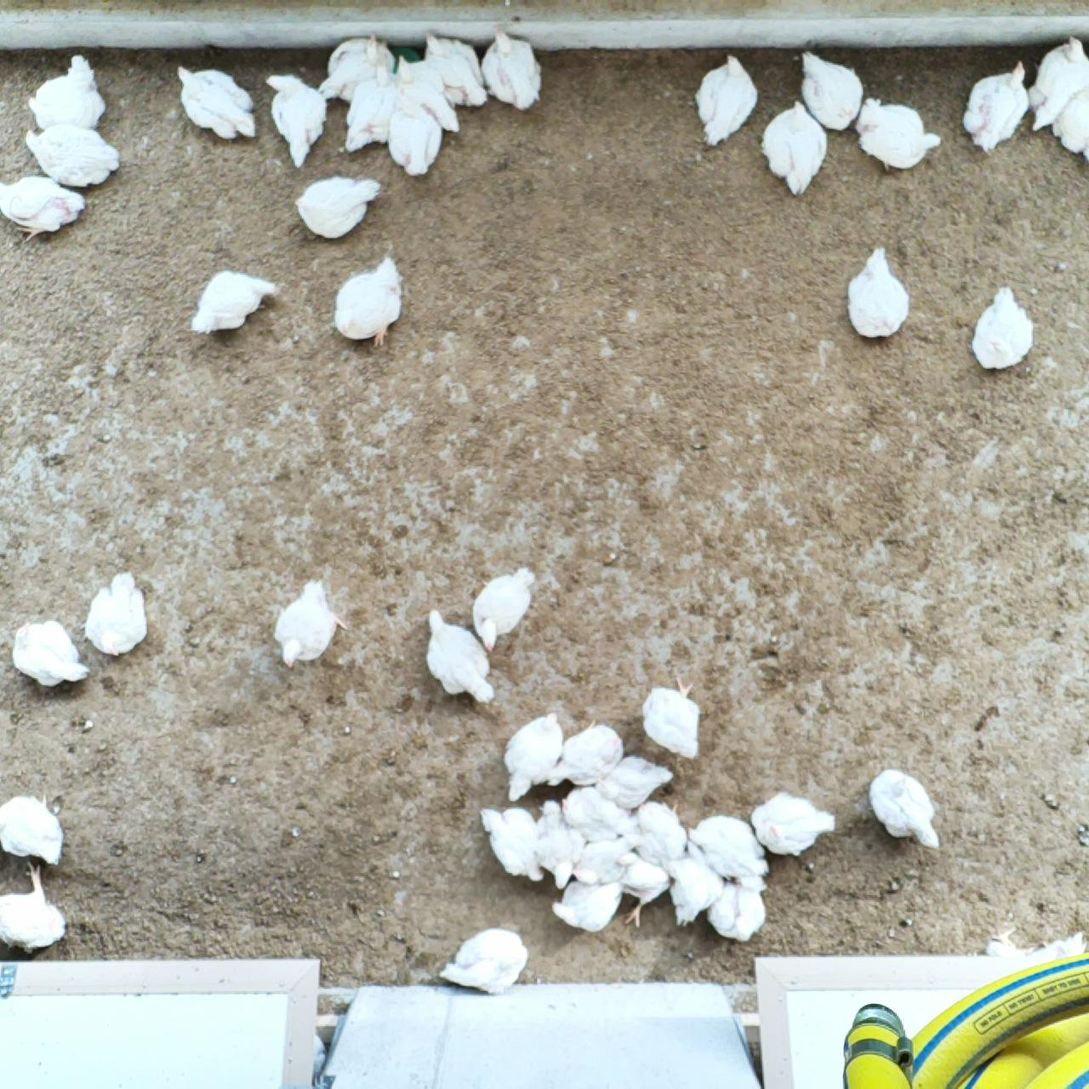chicken: (420, 606, 499, 707), (269, 574, 348, 671), (173, 58, 259, 146), (741, 783, 839, 860), (332, 253, 409, 351), (22, 119, 121, 194), (844, 242, 915, 345), (22, 52, 112, 132), (854, 95, 944, 175), (437, 923, 532, 998), (961, 58, 1032, 158), (0, 858, 70, 957), (758, 98, 828, 196), (867, 764, 943, 854), (264, 69, 331, 171), (965, 280, 1038, 373), (188, 266, 282, 338), (83, 568, 153, 663), (691, 54, 758, 153), (394, 52, 469, 140), (1025, 31, 1089, 134), (637, 672, 709, 763), (685, 810, 770, 887), (289, 174, 384, 242), (470, 562, 540, 654), (499, 711, 567, 804), (475, 803, 546, 890), (9, 617, 89, 693), (548, 716, 628, 791), (797, 45, 864, 133), (482, 25, 548, 113), (420, 29, 490, 111), (316, 33, 398, 103), (0, 173, 85, 240), (340, 61, 399, 155), (0, 790, 68, 867), (548, 869, 626, 936), (594, 753, 676, 813), (386, 92, 443, 176), (533, 795, 583, 890), (665, 851, 724, 929), (571, 828, 646, 888), (555, 784, 629, 844), (624, 795, 686, 865), (708, 879, 771, 946), (1053, 84, 1089, 162)
